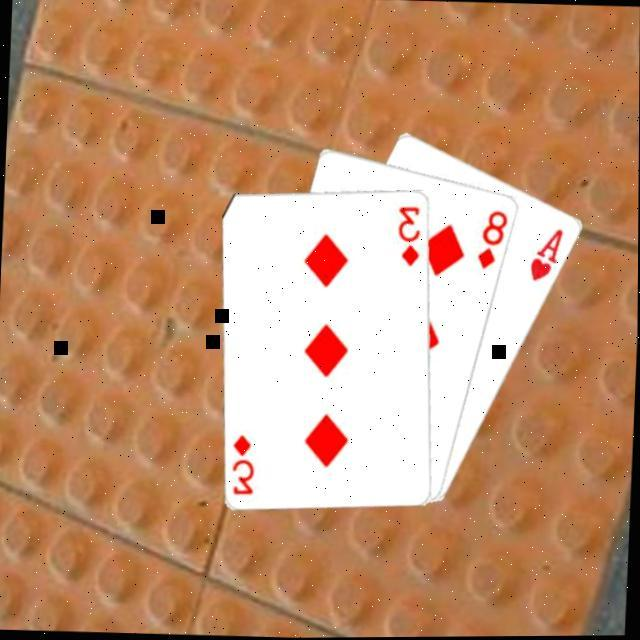3D: (227, 429, 257, 496), (392, 202, 422, 268)
8D: (472, 205, 508, 272)
AH: (525, 224, 565, 284)
